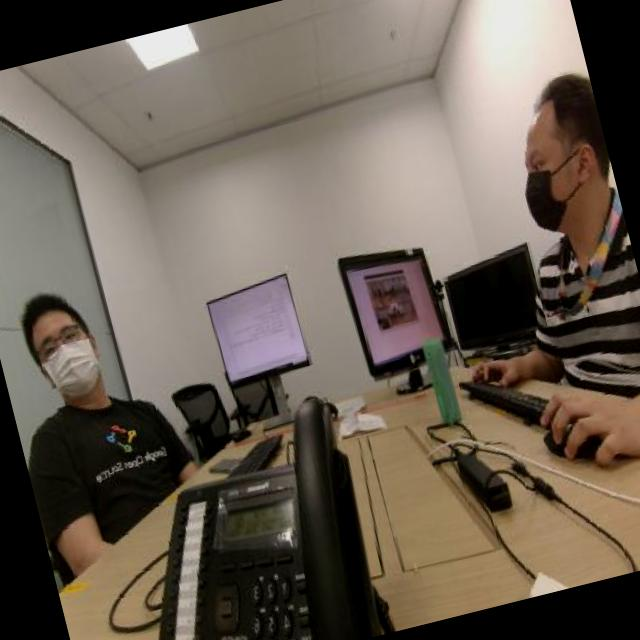Person: (468, 63, 640, 404), (0, 228, 178, 511)
